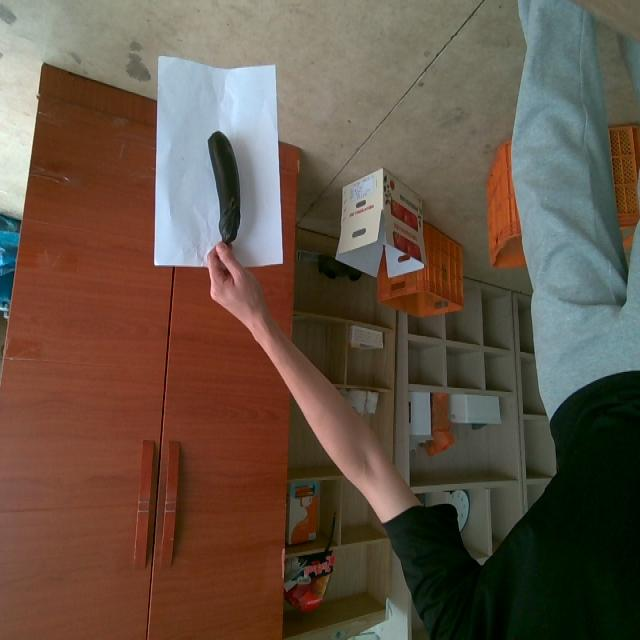Egg plant: (208, 132, 239, 244)
